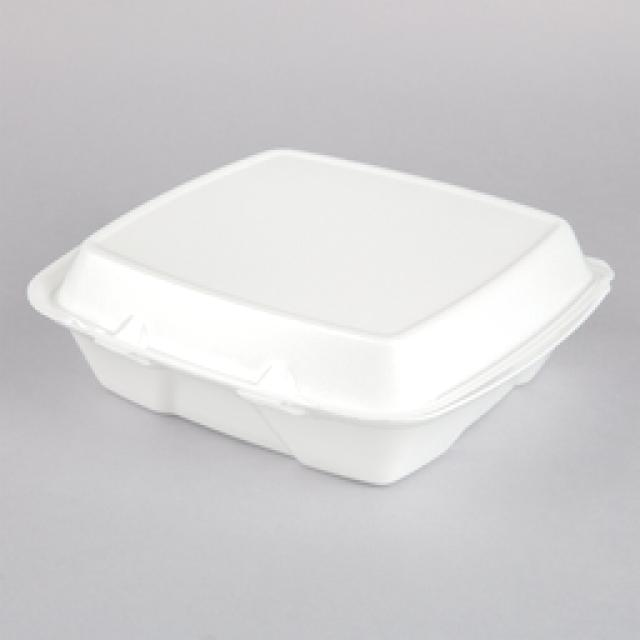inorganic: (27, 146, 618, 483)
